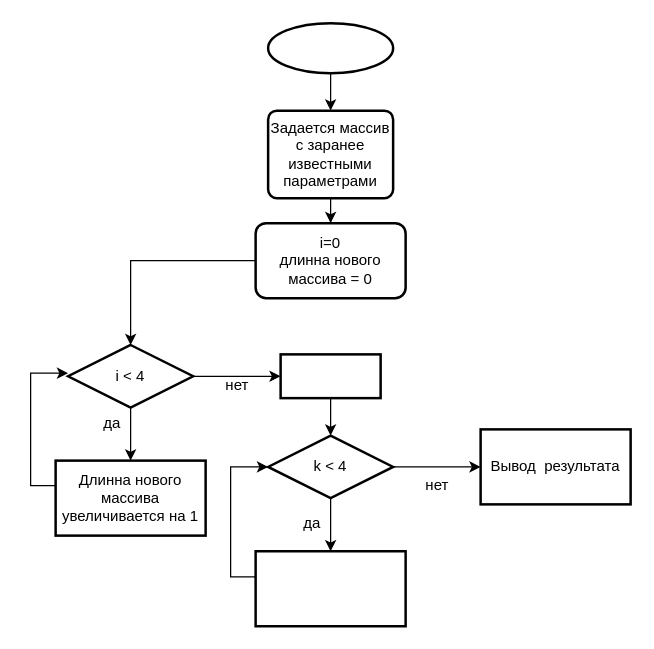
This 654x649 diagram has some shape labels left out. The shapes that lost their labels are listed below. From the top down, each one's box as (x1, y1, x2, y2) in pixels, then its label:
(266, 21, 394, 74): Начало
(279, 352, 381, 399): счетчик = 0 k = 0
(254, 549, 406, 627): Счетчик увеличивается на 1
